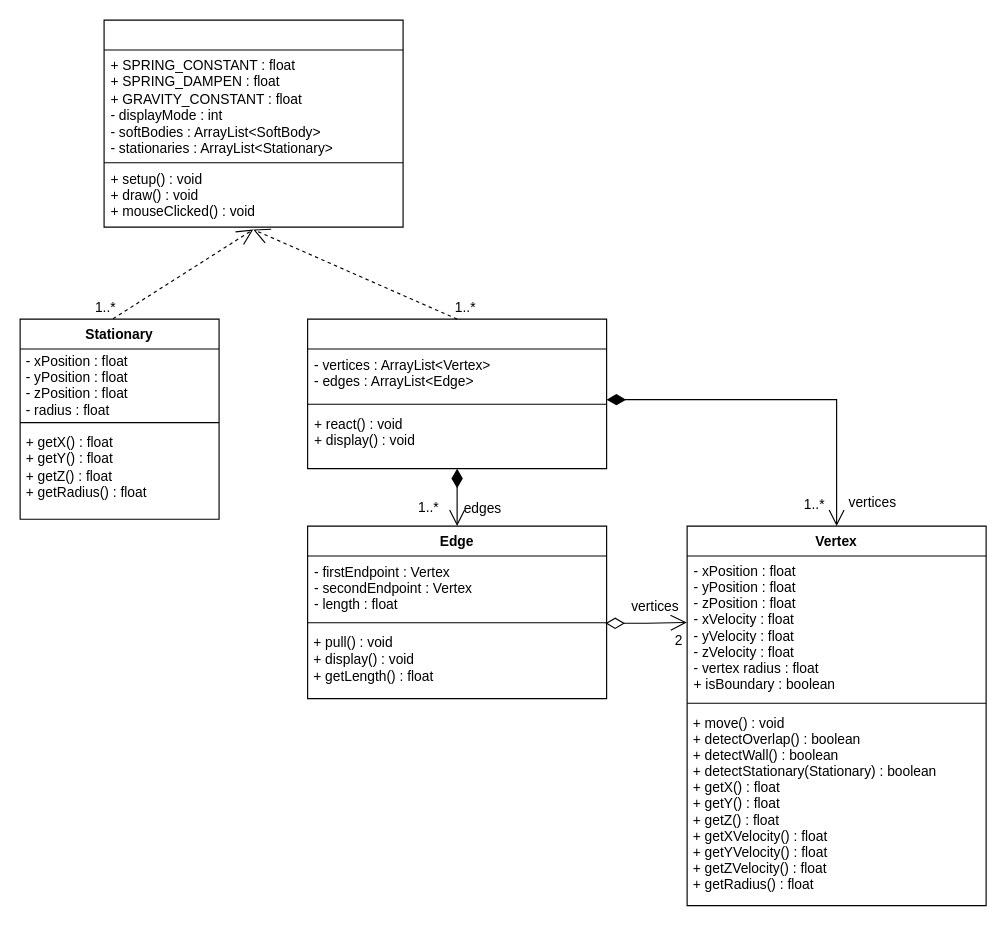
The diagram is 1006 pixels wide and 926 high, and some of its shapes have lost their labels. Each missing label, with the box of its shape:
Simulation: (103, 19, 403, 227)
SoftBody: (306, 318, 607, 469)
